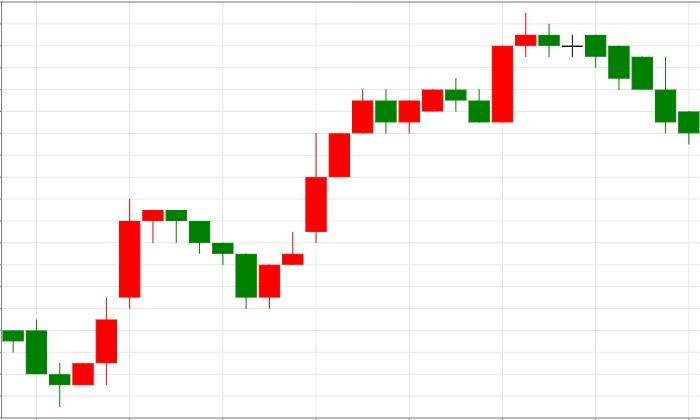three_white_soldiers_rise: (142, 132, 351, 309)
